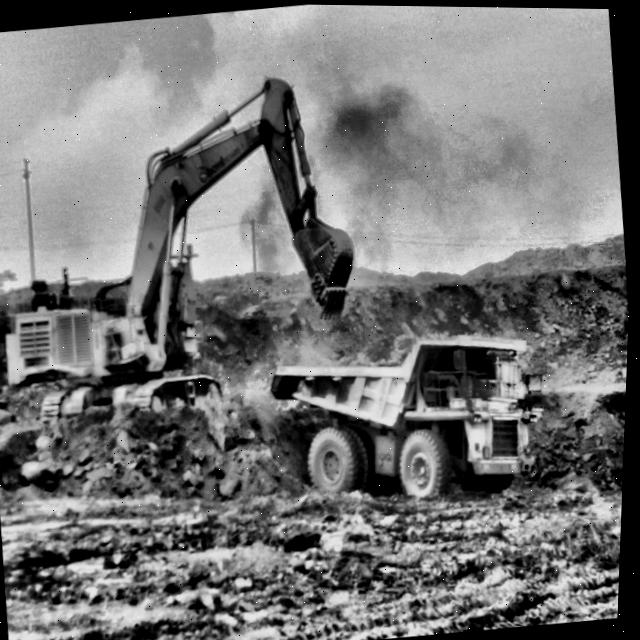dump_truck: (270, 337, 542, 500)
excavator: (7, 77, 357, 432)
